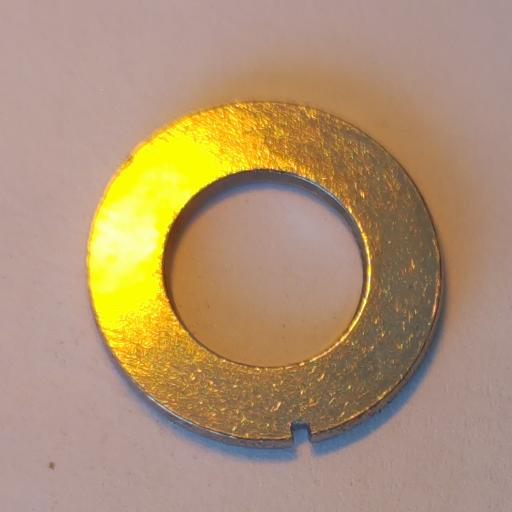burr: (289, 420, 314, 447)
